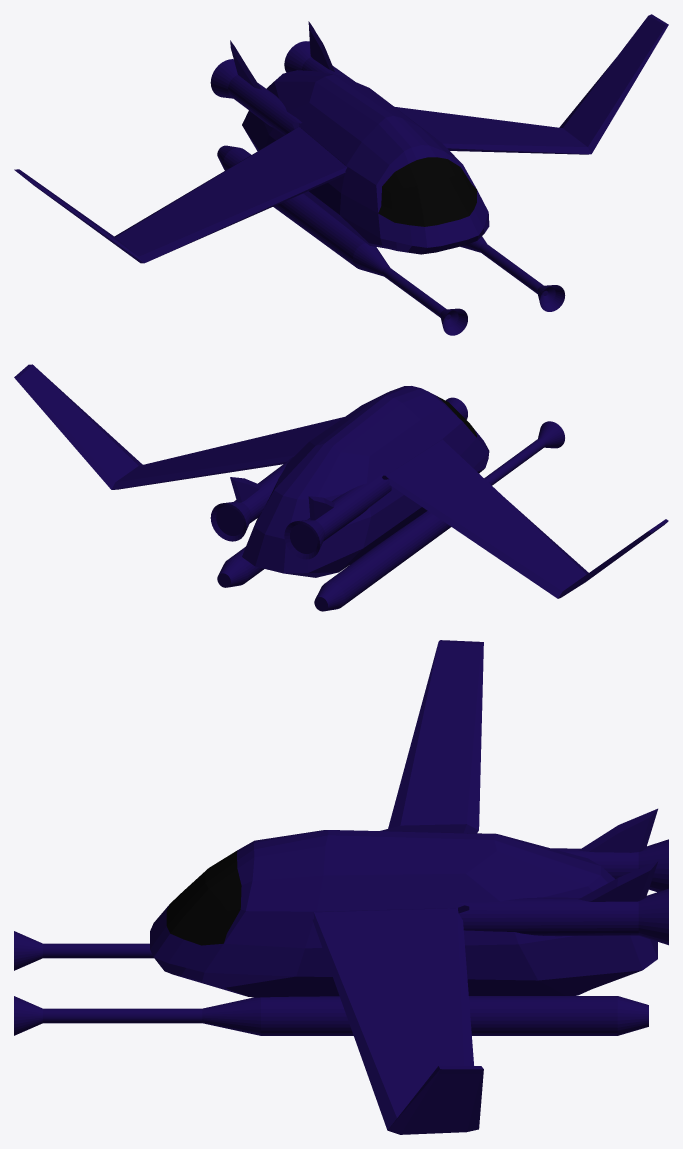
Rendered from AngledShips.fbx.
The picture shows the model from 3 angles, top to bottom: view 1: azimuth 30°, elevation 25°; view 2: azimuth 150°, elevation 25°; view 3: azimuth 270°, elevation 25°; orthographic projection. The views are drawn at different scales.
Parts seen in each view (by area): view 1: Body, Wings, Guns, Jets; view 2: Wings, Body, Guns, Jets; view 3: Body, Wings, Guns, Jets.
Boxes of the visible parts, left/top/right/bottom form: Body: left=242, top=70, right=489, bottom=254; Wings: left=14, top=14, right=668, bottom=263; Guns: left=217, top=145, right=565, bottom=335; Jets: left=210, top=21, right=354, bottom=135; Wings: left=14, top=364, right=668, bottom=598; Body: left=242, top=386, right=489, bottom=577; Guns: left=217, top=397, right=564, bottom=611; Jets: left=210, top=457, right=391, bottom=559; Body: left=150, top=830, right=657, bottom=997; Wings: left=312, top=640, right=483, bottom=1134; Guns: left=14, top=931, right=648, bottom=1035; Jets: left=458, top=808, right=668, bottom=945.
Size of the model in its own units: 1012 by 186 by 653.
